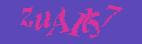5: (87, 11, 100, 38)
7: (100, 5, 121, 26)
A: (46, 7, 69, 35)
I: (66, 12, 88, 36)
l: (81, 8, 92, 32)
u: (33, 11, 51, 30)
z: (20, 7, 33, 26)
